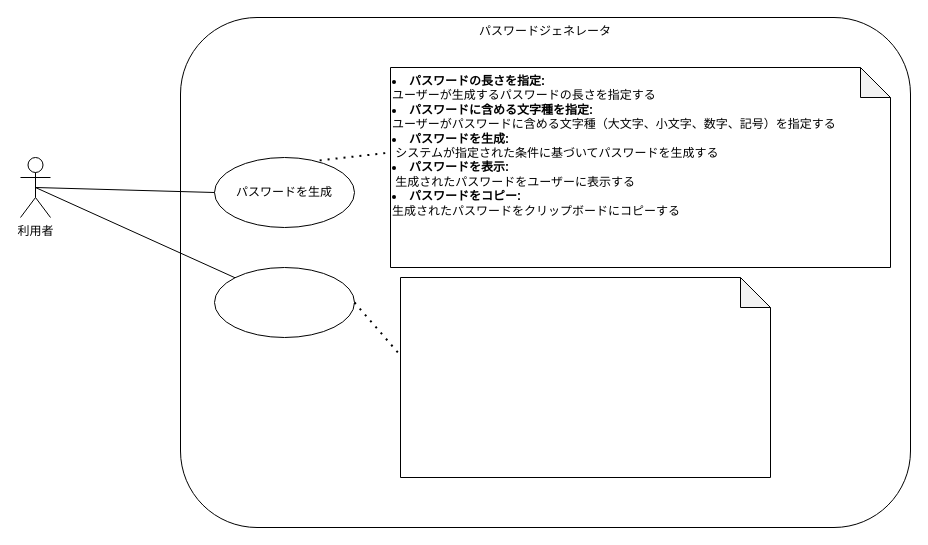
The diagram is 928 pixels wide and 545 high, and some of its shapes have lost their labels. The centre of each missing label's shape, as x and y in pixels:
"デフォルト設定の変更: パスワードの長さや文字種のデフォルト設定を変更する" belongs at (585,377).
"設定変更" belongs at (284,302).
